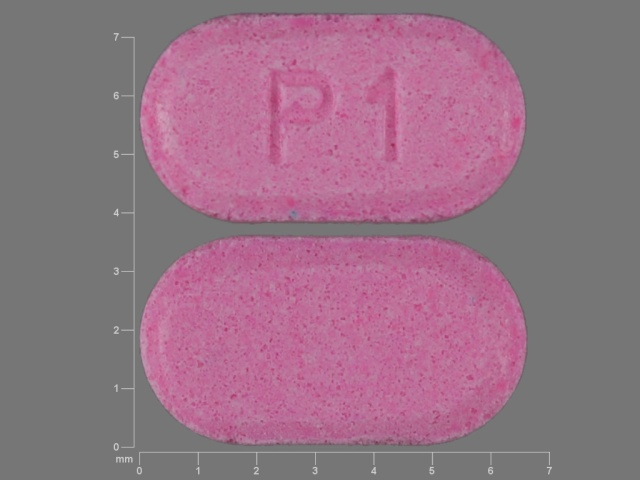1: (362, 63, 413, 170)
P: (259, 62, 336, 172)
